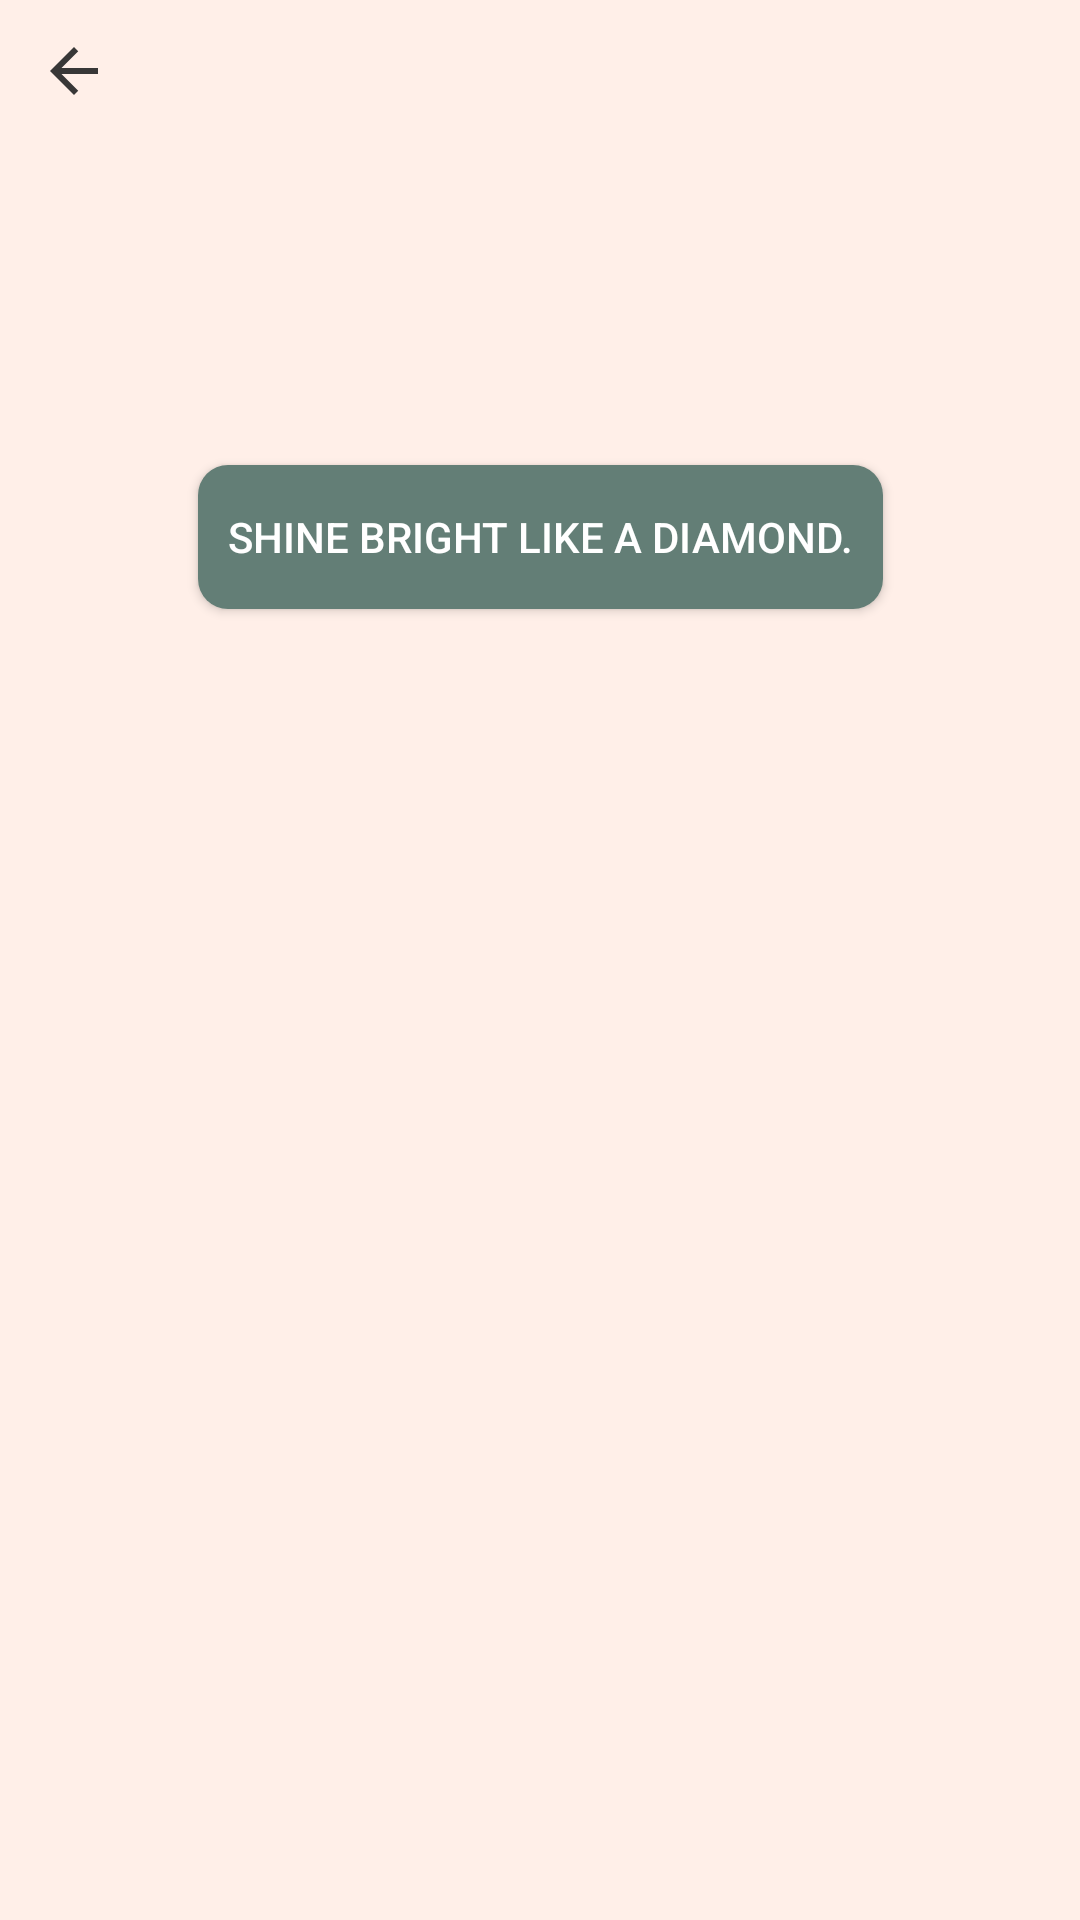

Locate icon controls on the screen. Image size 1080×1920, boxes as region(x1, y1, x2, y2).
arrow back: region(50, 47, 98, 95)
